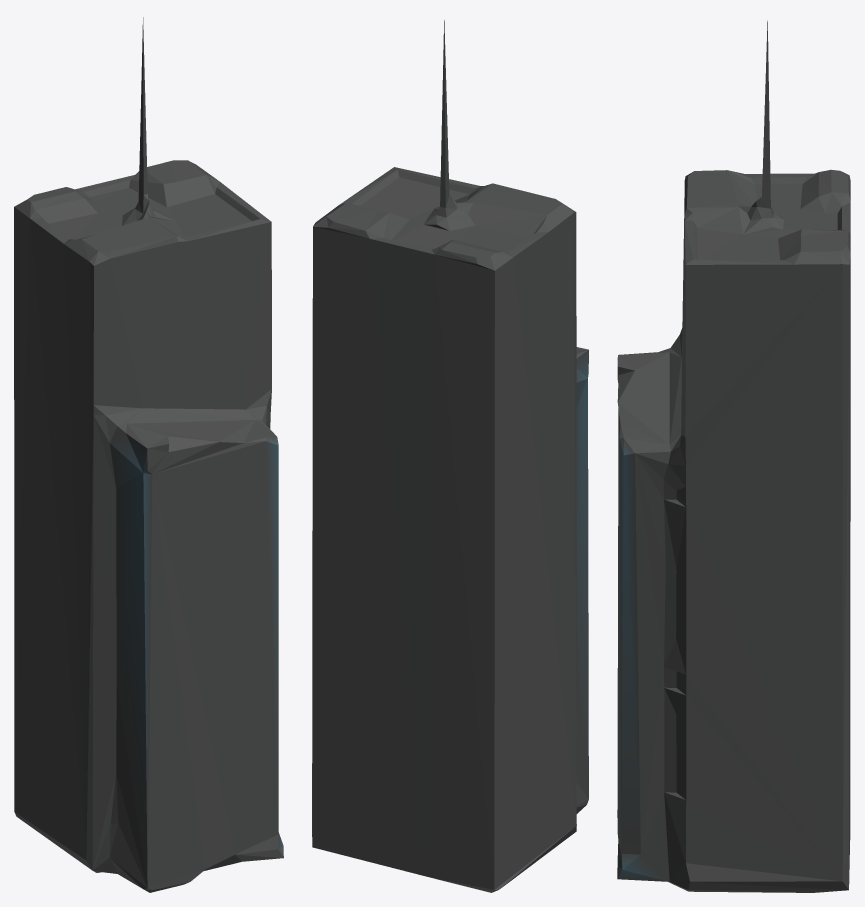
File: Skyscrapers.glb
3 renders of one model, left to right at view 1: azimuth 30°, elevation 25°; view 2: azimuth 150°, elevation 25°; view 3: azimuth 270°, elevation 25°, orthographic. The views are drawn at different scales.
Visible parts, largest first — view 1: Root; view 2: Root; view 3: Root.
Part boxes in pixels (x1,y1,x2,y2): Root: [14, 17, 283, 892]; Root: [312, 20, 588, 892]; Root: [617, 20, 850, 892].
Size of the model in its own units: 6.43 by 26.84 by 6.79.
